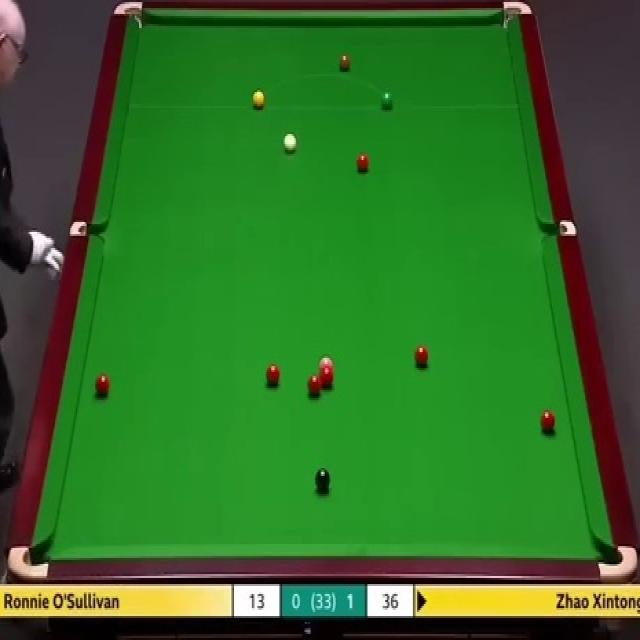black-ball: (314, 468, 331, 492)
brown-ball: (336, 53, 352, 73)
green-ball: (380, 89, 393, 110)
pink-ball: (318, 356, 331, 376)
red-ball: (539, 408, 555, 435), (93, 376, 110, 398), (354, 152, 371, 174), (308, 374, 321, 398), (414, 345, 428, 367), (320, 370, 333, 392), (266, 366, 280, 386)
white-ball: (282, 134, 297, 151)
yellow-ball: (253, 90, 265, 110)
